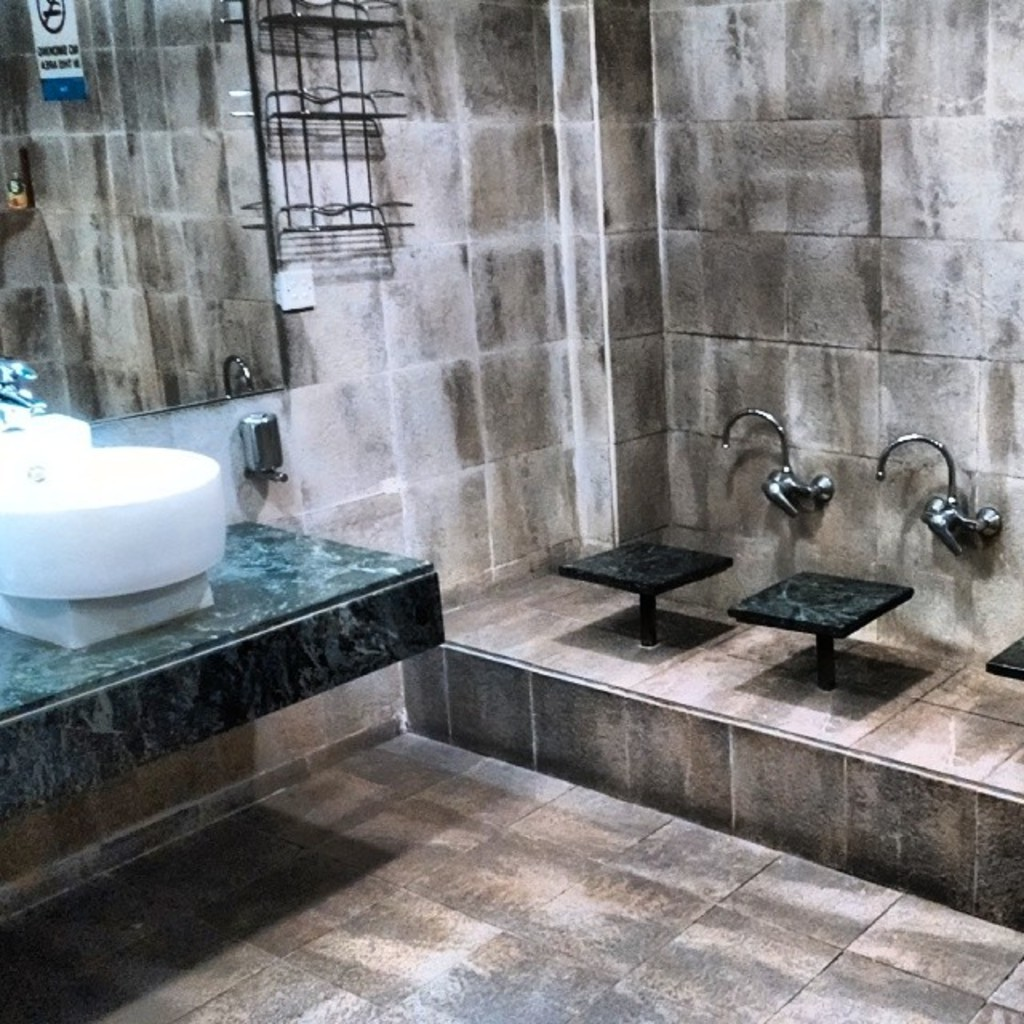tap: (716, 404, 838, 531), (875, 428, 966, 505)
